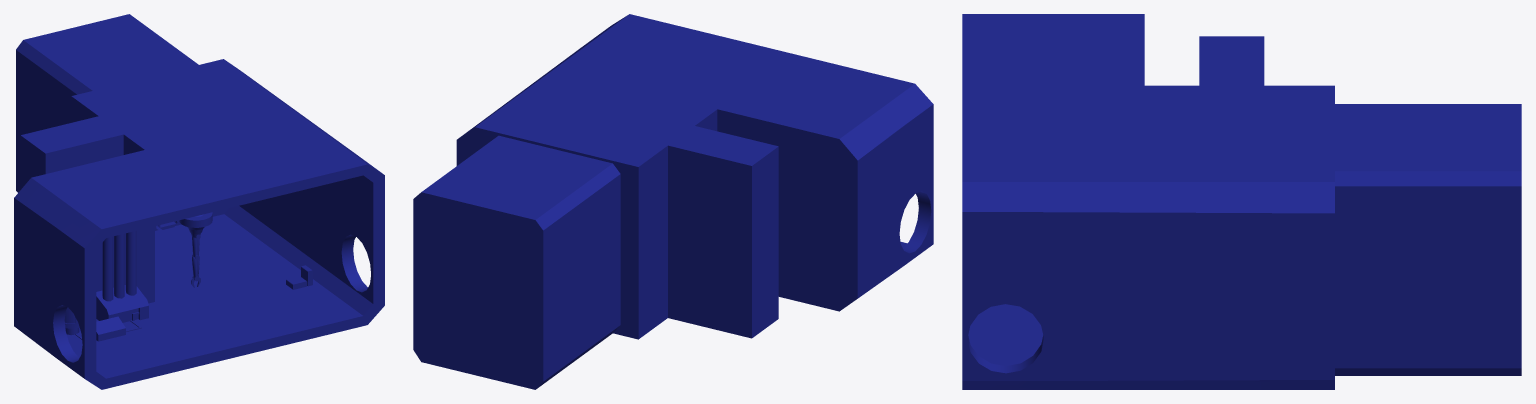
Rendered from Sala4-Alimentacion-02.fbx.
The picture shows the model from 3 angles, left to right: view 1: azimuth 30°, elevation 25°; view 2: azimuth 150°, elevation 25°; view 3: azimuth 270°, elevation 25°; orthographic projection. The views are drawn at different scales.
Parts seen in each view (by area): view 1: sala4, tubos-Pequeños, controlador-Tubos, Robot; view 2: sala4; view 3: sala4.
Part boxes in pixels (bbox=[...]): sala4: bbox=[14, 14, 384, 389]; tubos-Pequeños: bbox=[96, 231, 148, 322]; controlador-Tubos: bbox=[75, 316, 141, 341]; Robot: bbox=[179, 212, 212, 239]; sala4: bbox=[413, 14, 933, 389]; sala4: bbox=[962, 14, 1521, 389].
Bounding box in the file's own units: 1316 × 673 × 1641.
